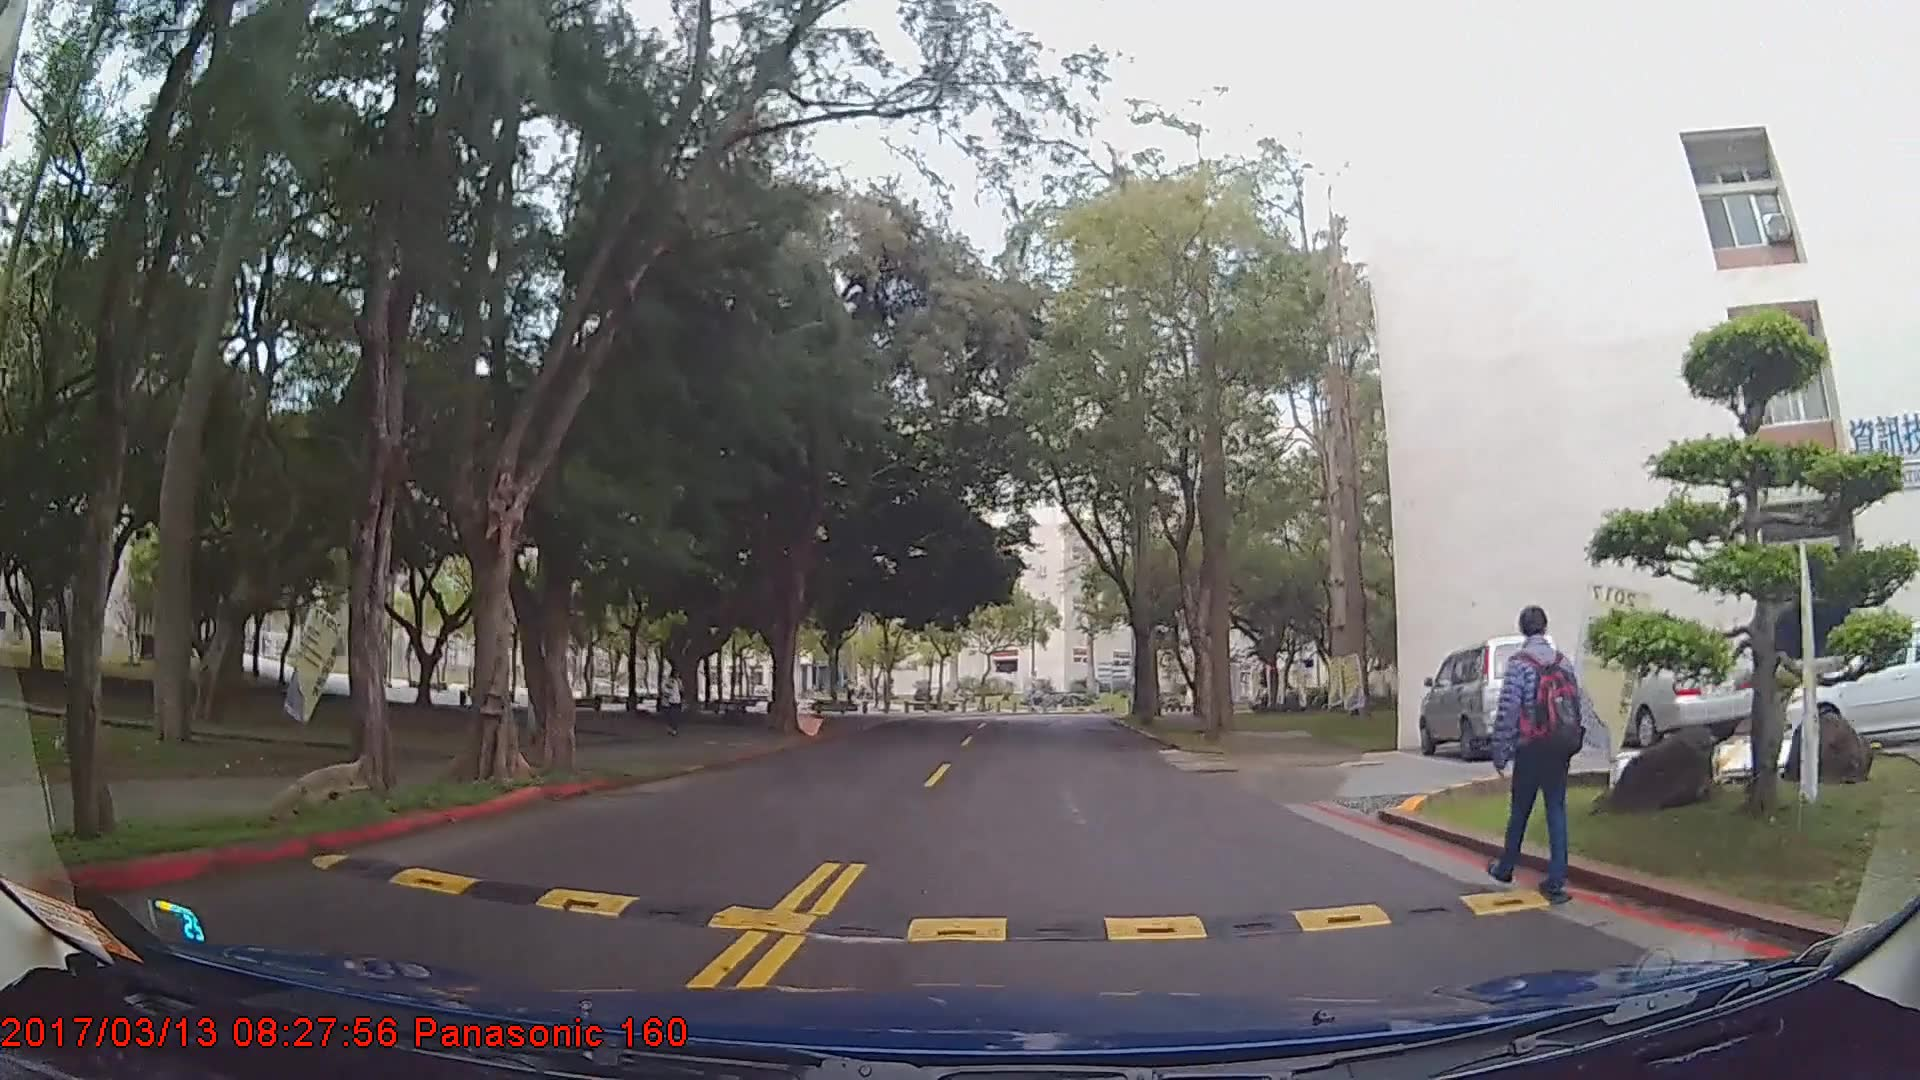pedestrian: (1493, 600, 1583, 899), (659, 666, 690, 736)
vehicle: (1418, 632, 1565, 757), (1779, 622, 1919, 748)
